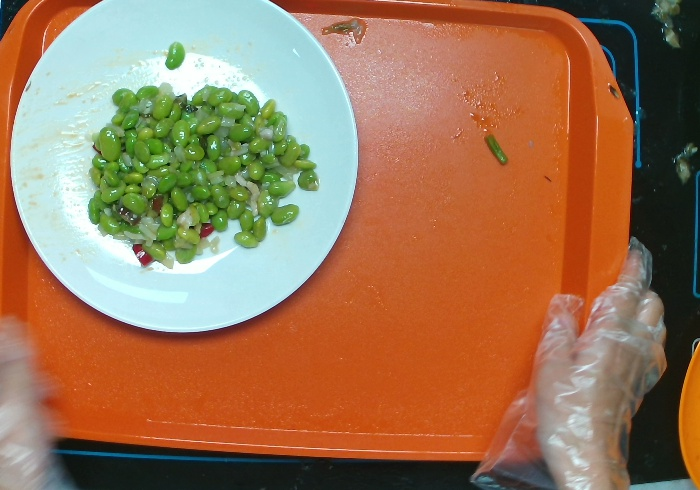HZYJPL-Bai_Se_Yuan_Pan: (8, 1, 361, 339)
